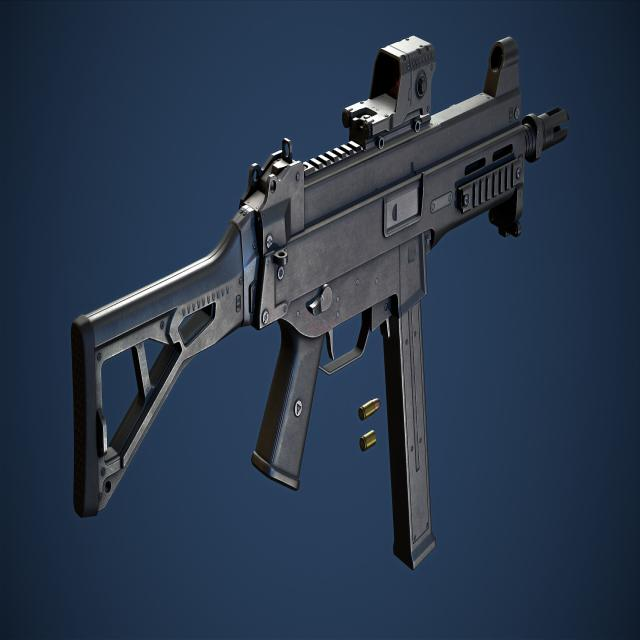SMG: (71, 37, 570, 572)
